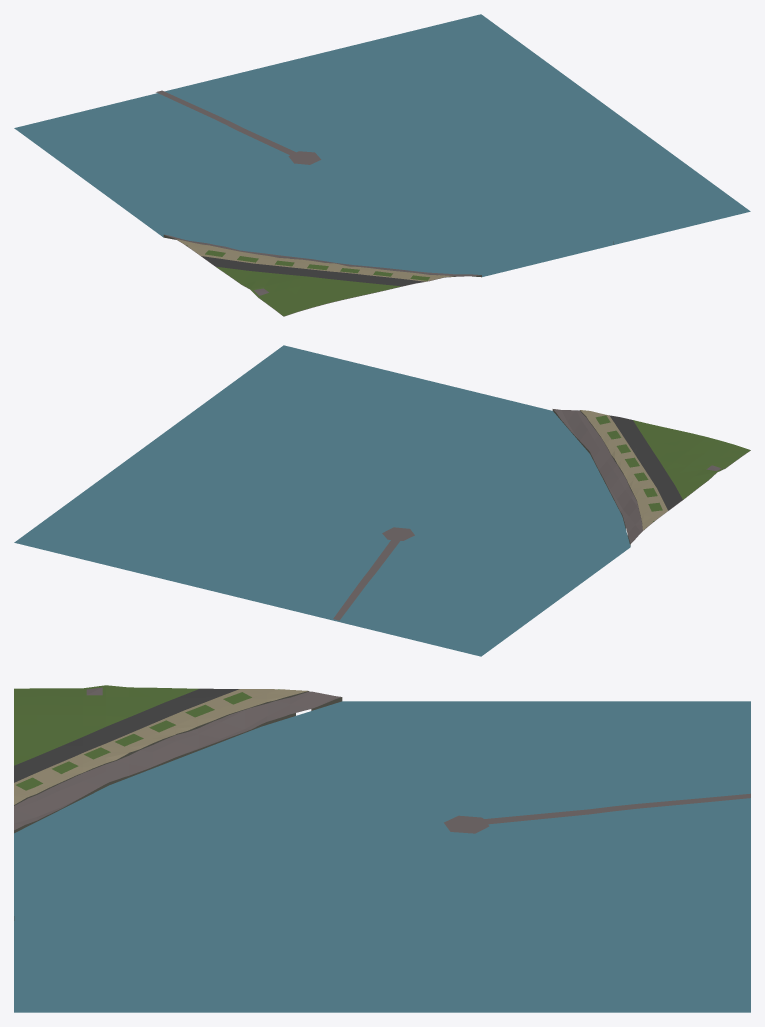
3 renders of one model, top to bottom at view 1: azimuth 30°, elevation 25°; view 2: azimuth 150°, elevation 25°; view 3: azimuth 270°, elevation 25°, orthographic. The views are drawn at different scales.
Parts seen in each view (by area): view 1: append:c_m05_m08, c_m05_m08; view 2: append:c_m05_m08, c_m05_m08; view 3: append:c_m05_m08, c_m05_m08.
Boxes of the visible parts, x1=… form: append:c_m05_m08: x1=14, y1=14, x2=636, y2=242; c_m05_m08: x1=163, y1=128, x2=750, y2=316; append:c_m05_m08: x1=14, y1=428, x2=647, y2=656; c_m05_m08: x1=170, y1=345, x2=750, y2=545; append:c_m05_m08: x1=296, y1=690, x2=750, y2=1012; c_m05_m08: x1=14, y1=685, x2=342, y2=1012.
Size of the model in its own units: 128 by 3.07 by 128.
